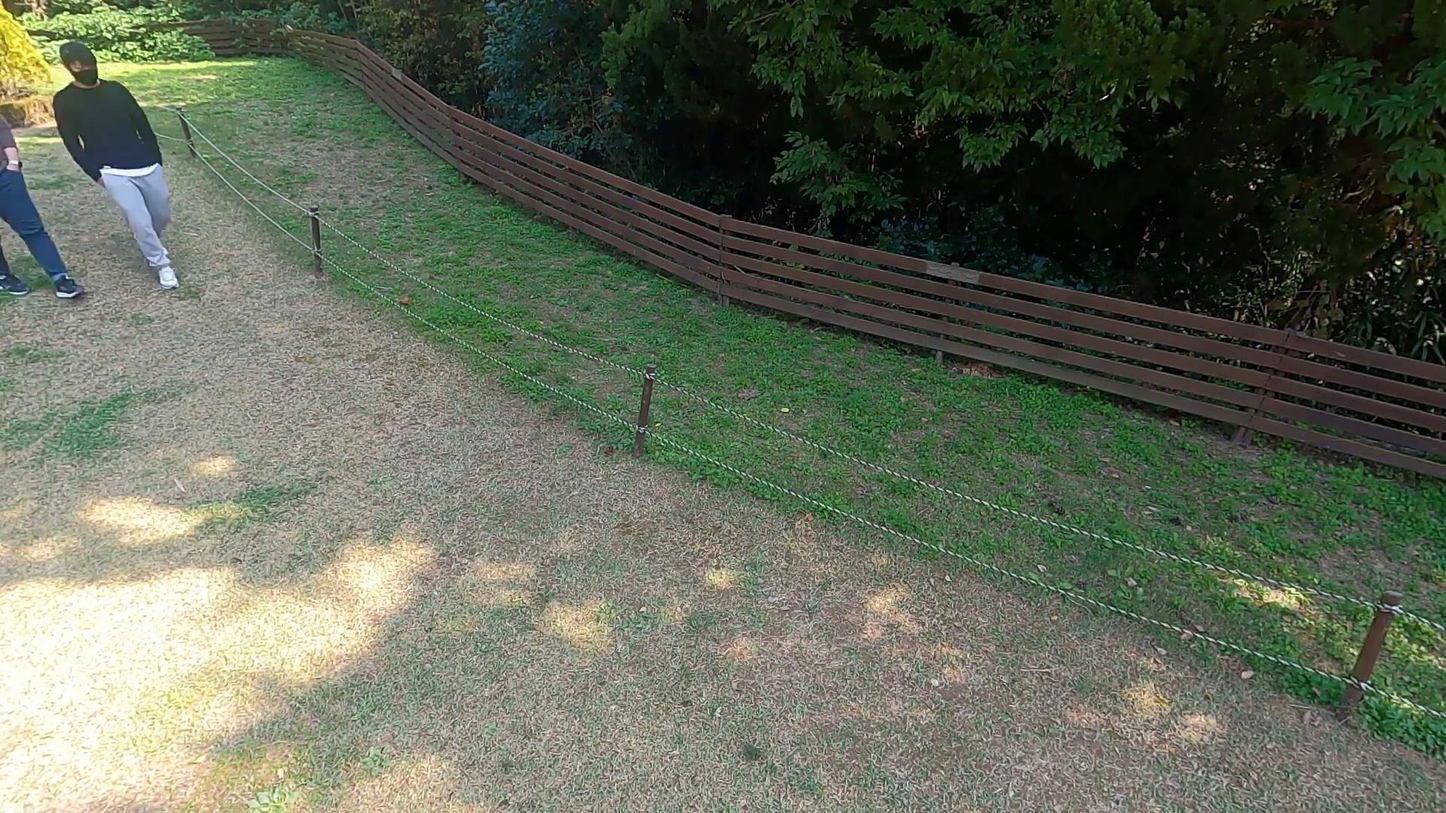person: (45, 36, 189, 292), (0, 70, 88, 308)
